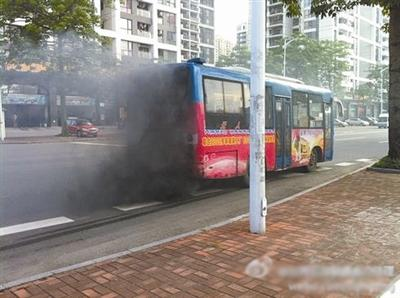smoke: (67, 76, 194, 205)
